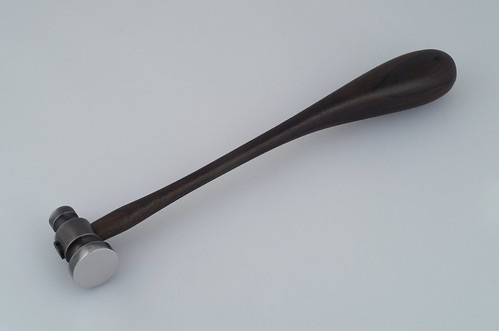hammer: (44, 38, 461, 296)
